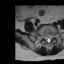CCS_normal: (47, 35, 49, 44)
LFS_normal: (52, 32, 54, 39)
LLS_normal: (50, 34, 52, 43)
RFS_normal: (43, 34, 45, 41)
RLS_normal: (45, 34, 47, 43)
